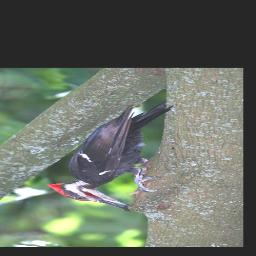Woodpecker: (46, 101, 174, 210)
